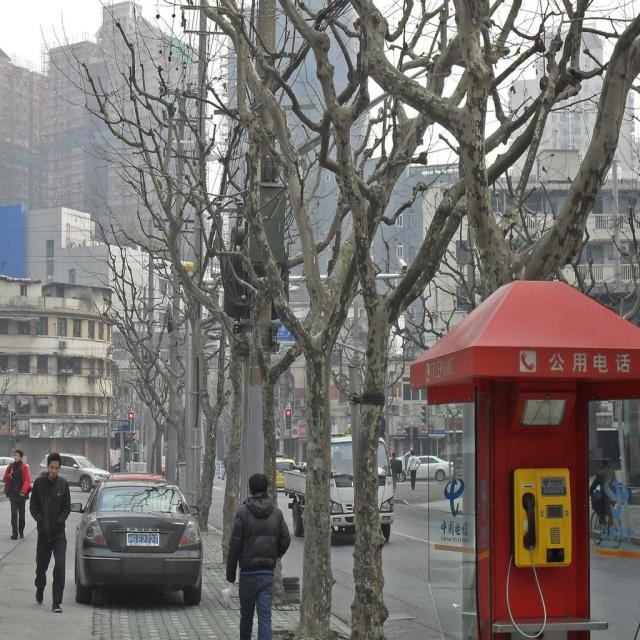car: (67, 479, 201, 606)
